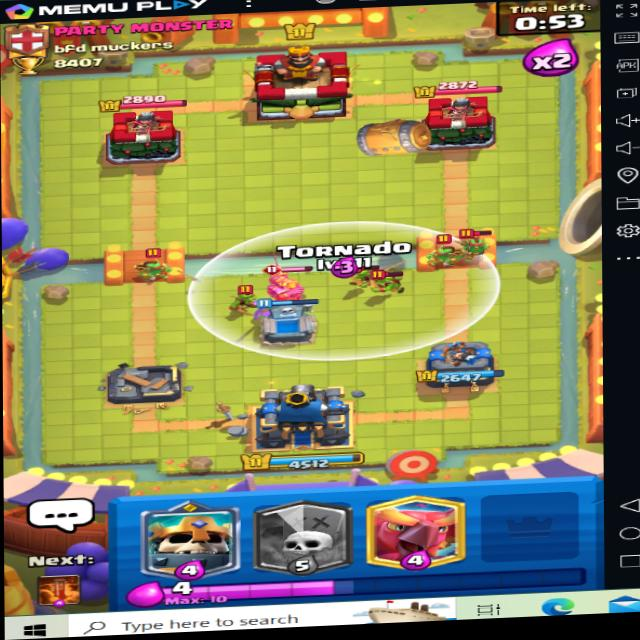evo-knight: (263, 260, 311, 303)
goblin: (334, 254, 377, 290), (374, 267, 421, 298), (220, 284, 263, 315)
goblin-barrel: (345, 110, 451, 165)
spear-goblin: (120, 242, 195, 289), (423, 231, 464, 270), (456, 222, 496, 257)
